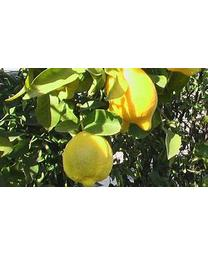lemon: (105, 67, 157, 131), (64, 131, 114, 186)
